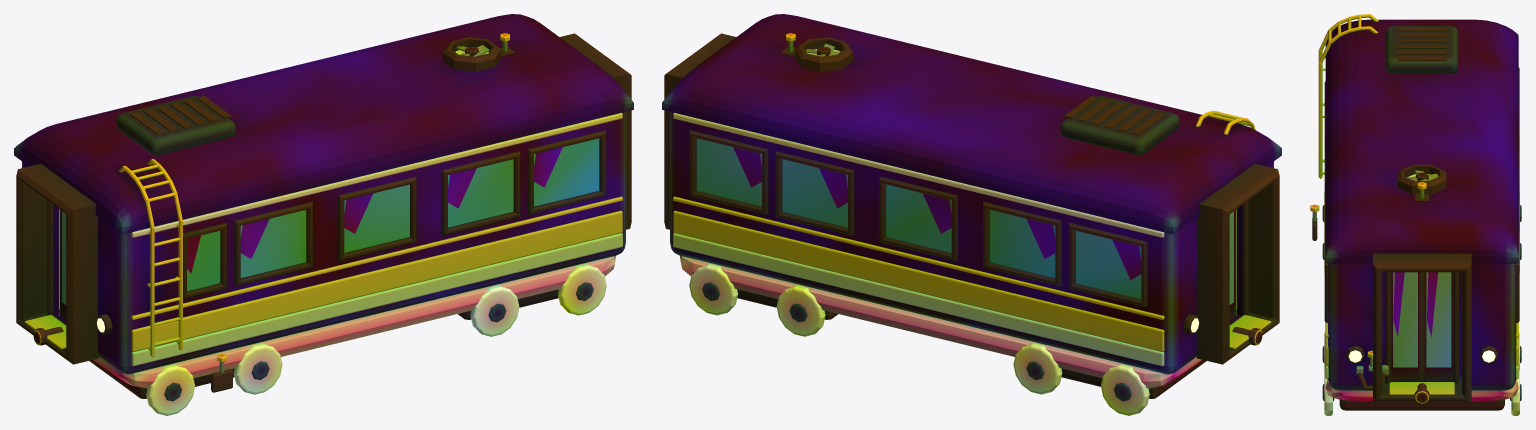
Rendered from ModernCoach_Closed_Blockout.fbx.
3 renders of one model, left to right at view 1: azimuth 30°, elevation 25°; view 2: azimuth 150°, elevation 25°; view 3: azimuth 270°, elevation 25°, orthographic. The views are drawn at different scales.
Parts seen in each view (by area): view 1: Roof, Body, Windows, Livery, Underframe, Ends, RoofLadder, EndDoorLeaf_R_Rear; view 2: Roof, Body, Windows, Livery, Underframe, Ends, EndDoorLeaf_L_Rear; view 3: Roof, Body, Ends, Underframe, EndDoorLeaf_L_Front, EndDoorLeaf_R_Front, RoofLadder, Windows, Livery, Coupler_Front.
Part boxes in pixels (x1=…): Roof: x1=14, y1=14, x2=633, y2=234; Body: x1=22, y1=112, x2=625, y2=374; Windows: x1=183, y1=130, x2=606, y2=299; Livery: x1=131, y1=113, x2=622, y2=366; Underframe: x1=89, y1=256, x2=615, y2=415; Ends: x1=16, y1=33, x2=631, y2=364; RoofLadder: x1=119, y1=159, x2=182, y2=357; EndDoorLeaf_R_Rear: x1=59, y1=209, x2=66, y2=319; Roof: x1=662, y1=14, x2=1281, y2=234; Body: x1=670, y1=112, x2=1273, y2=374; Windows: x1=689, y1=130, x2=1147, y2=307; Livery: x1=673, y1=113, x2=1164, y2=366; Underframe: x1=680, y1=256, x2=1206, y2=415; Ends: x1=664, y1=33, x2=1279, y2=364; EndDoorLeaf_L_Rear: x1=1229, y1=209, x2=1236, y2=319; Roof: x1=1325, y1=19, x2=1518, y2=263; Body: x1=1328, y1=263, x2=1516, y2=390; Ends: x1=1346, y1=253, x2=1498, y2=401; Underframe: x1=1322, y1=192, x2=1521, y2=415; EndDoorLeaf_L_Front: x1=1390, y1=272, x2=1421, y2=380; EndDoorLeaf_R_Front: x1=1422, y1=272, x2=1453, y2=380; RoofLadder: x1=1318, y1=14, x2=1378, y2=178; Windows: x1=1324, y1=67, x2=1519, y2=322; Livery: x1=1325, y1=263, x2=1518, y2=378; Coupler_Front: x1=1414, y1=383, x2=1429, y2=403.
Size of the model in its own units: 8.16 by 3.33 by 2.91.
